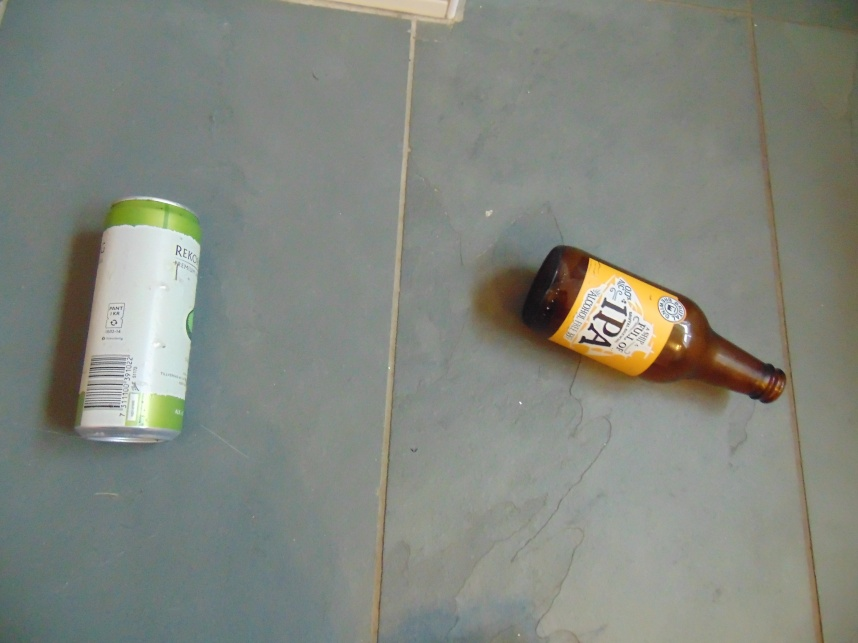glass_bottle: (520, 243, 789, 406)
metal_can: (70, 193, 200, 445)
